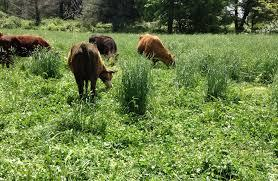cow: (68, 41, 118, 97), (0, 32, 55, 57), (135, 35, 177, 67), (87, 35, 117, 56)
